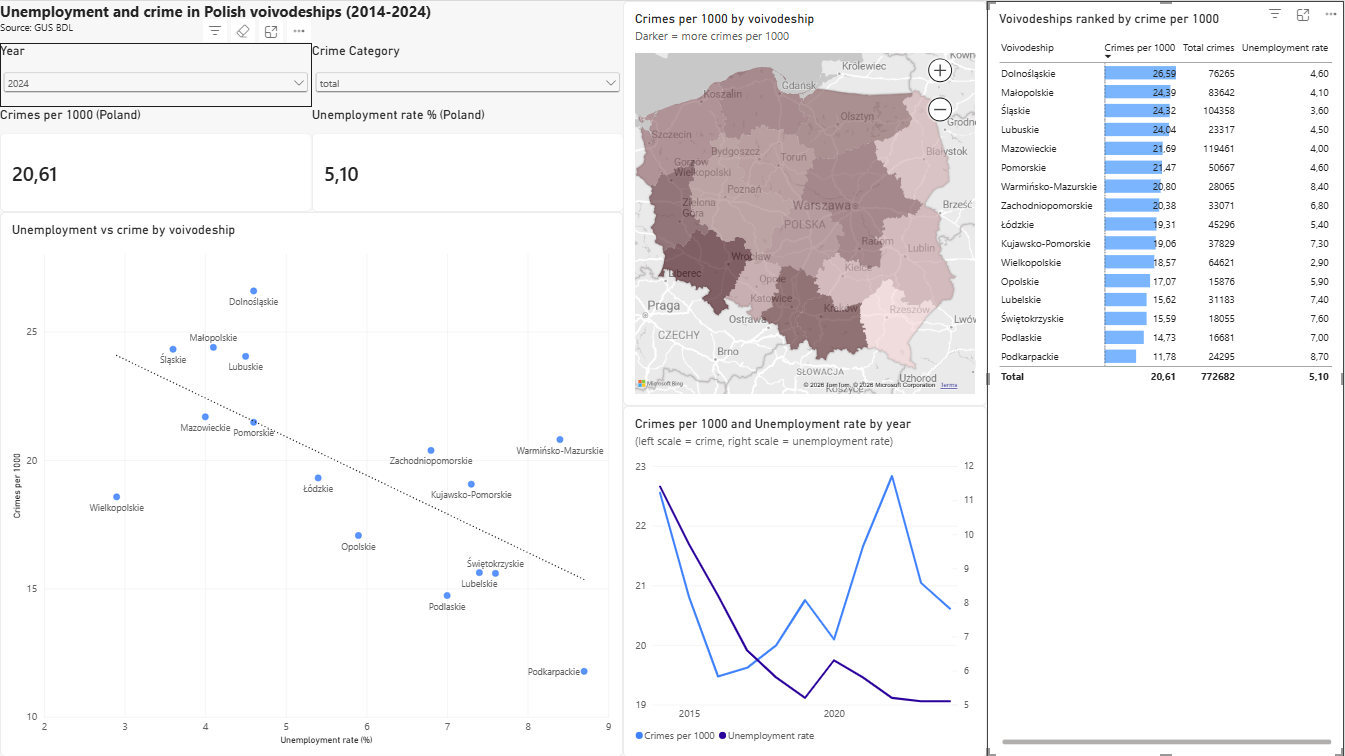

The page's visual inventory and layout, read from the dashboard file:
{"tool":"powerbi","page":{"name":"Page 1","canvas":[1920,1080],"ordinal":0},"visuals":[{"type":"slicer","title":"Year","fields":{"Values":["year.year"]},"box":[0,60,445,91.7],"z":0},{"type":"slicer","title":"Crime Category","fields":{"Values":["crimes.category"]},"box":[445,60,445,91.7],"z":1000},{"type":"cardVisual","title":"Crimes per 1000 (Poland)","fields":{"Data":["_Measures.Crimes per 1000"]},"box":[0,151.7,445,150],"z":2000},{"type":"cardVisual","title":"Unemployment rate % (Poland)","fields":{"Data":["_Measures.Unemployment rate"]},"box":[445,151.7,445,150],"z":3000},{"type":"filledMap","title":"Crimes per 1000 by voivodeship","fields":{"Category":["voivodeship.location"]},"box":[890,0,520,578.3],"z":4000},{"type":"scatterChart","title":"Unemployment vs crime by voivodeship","fields":{"Category":["voivodeship.name"],"X":["_Measures.Unemployment rate"],"Y":["_Measures.Crimes per 1000"]},"box":[0,301.7,890,778.3],"z":5000},{"type":"lineChart","fields":{"Category":["year.year"],"Y":["_Measures.Crimes per 1000"],"Y2":["_Measures.Unemployment rate"]},"box":[890,578.3,520,501.7],"z":6000},{"type":"tableEx","title":"Voivodeships ranked by crime per 1000","fields":{"Values":["voivodeship.name","_Measures.Crimes per 1000","_Measures.Total crimes","_Measures.Unemployment rate"]},"box":[1410,0,510,1080],"z":7000},{"type":"textbox","box":[0,0,890,60],"z":8000}]}

Visuals, with their boxes in screenshot pixels (x1, y1, x2, y2), scaled from the page's 1920x1080 canvas onto the 1345x756 screenshot:
"Year" slicer: box=[0, 42, 312, 106]
"Crime Category" slicer: box=[312, 42, 623, 106]
"Crimes per 1000 (Poland)" cardVisual: box=[0, 106, 312, 211]
"Unemployment rate % (Poland)" cardVisual: box=[312, 106, 623, 211]
"Crimes per 1000 by voivodeship" filledMap: box=[623, 0, 988, 405]
"Unemployment vs crime by voivodeship" scatterChart: box=[0, 211, 623, 755]
lineChart - year.year x _Measures.Crimes per 1000: box=[623, 405, 988, 755]
"Voivodeships ranked by crime per 1000" tableEx: box=[988, 0, 1344, 755]
textbox: box=[0, 0, 623, 42]
